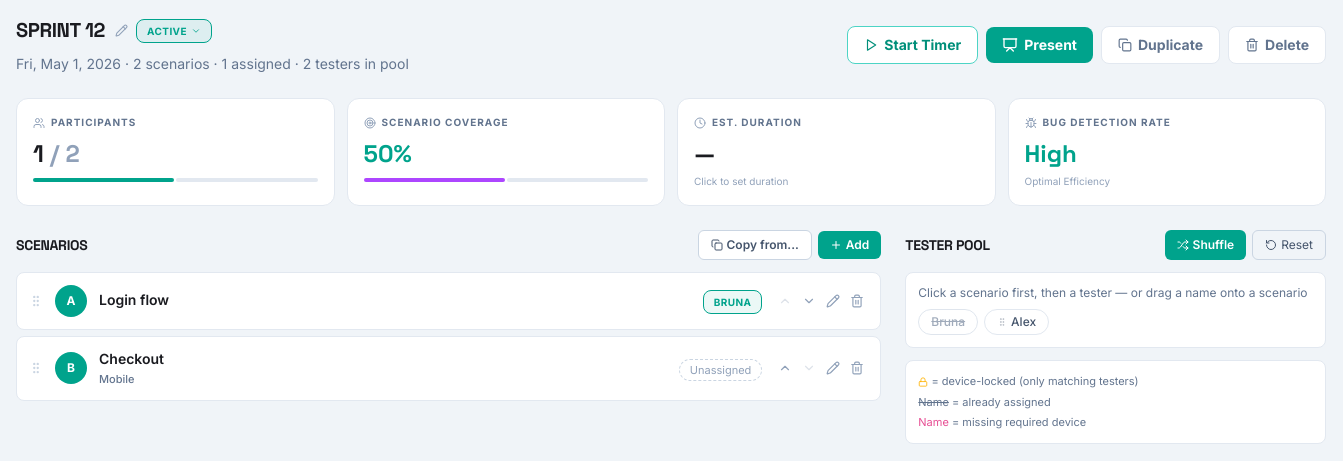
SessionSetupPage › pressing Enter saves title edit
The image size is (1343, 461).
Check: the heading "Sprint 12" is shown, box [16, 16, 105, 44]
Click the element titled "Click to edit title". click: click(72, 30)
box: [16, 16, 128, 44]
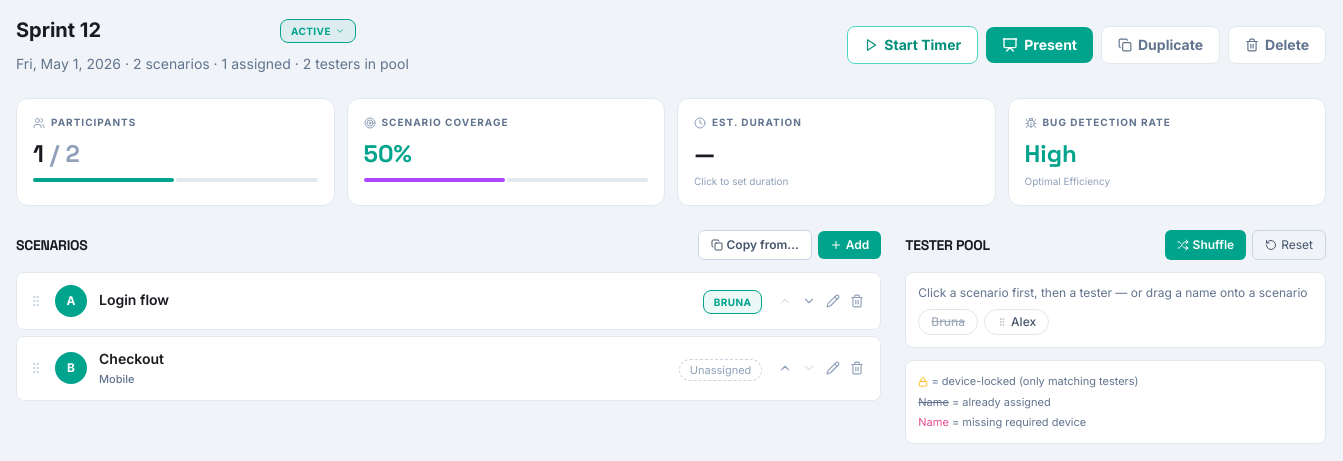
Replace the text in the field showing "Sprint 12" with "New Title". click: (144, 30)
box: [16, 16, 272, 44]
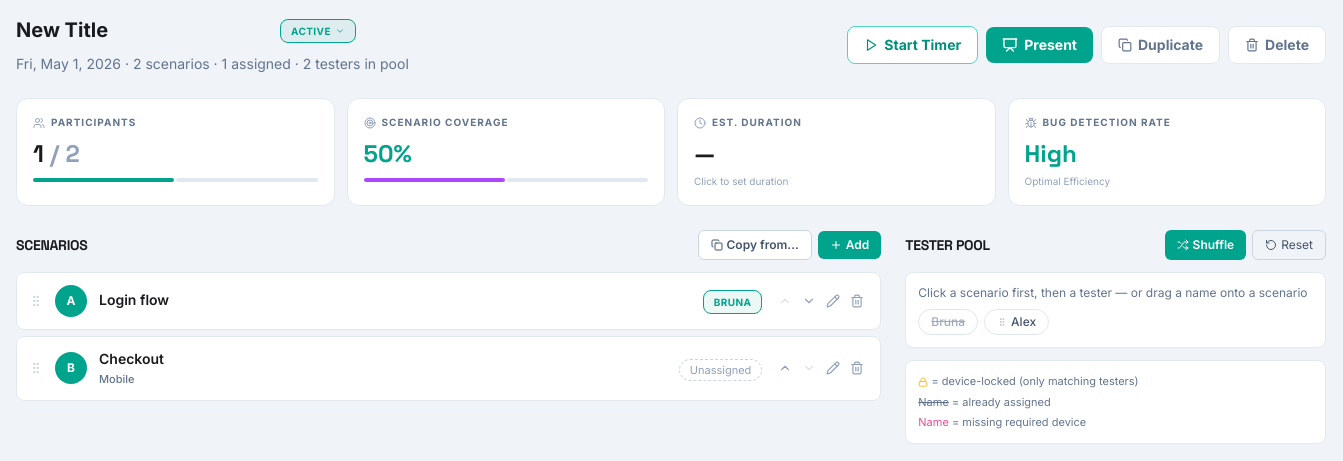
Press Enter in the field showing "Sprint 12", box [16, 16, 272, 44]
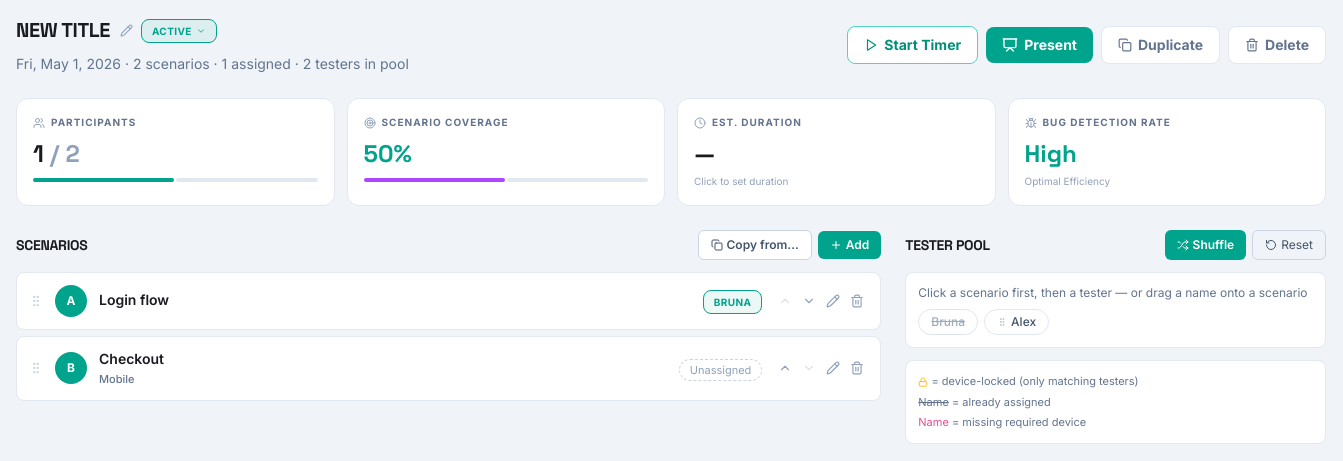
Check: the heading "New Title" is shown, box [16, 16, 110, 44]
